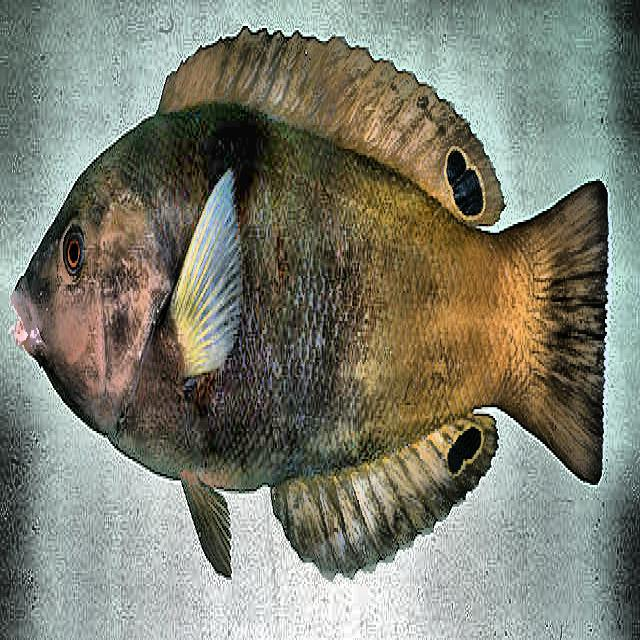fish: (9, 25, 609, 582)
